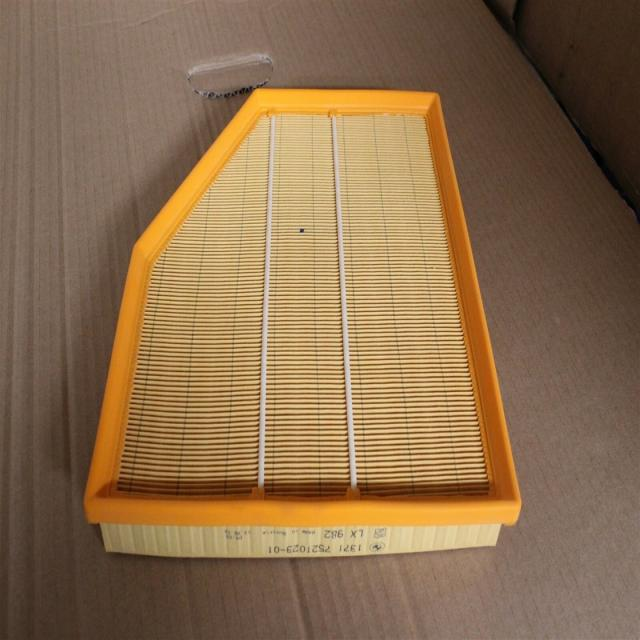air_filter: (81, 83, 521, 551)
